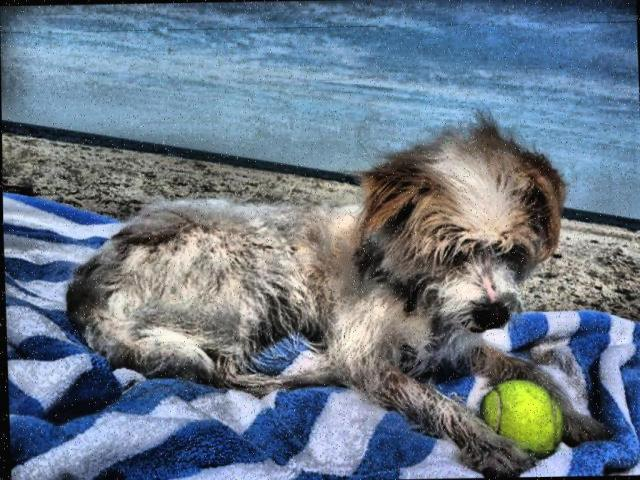tennis-ball: (478, 381, 564, 459)
